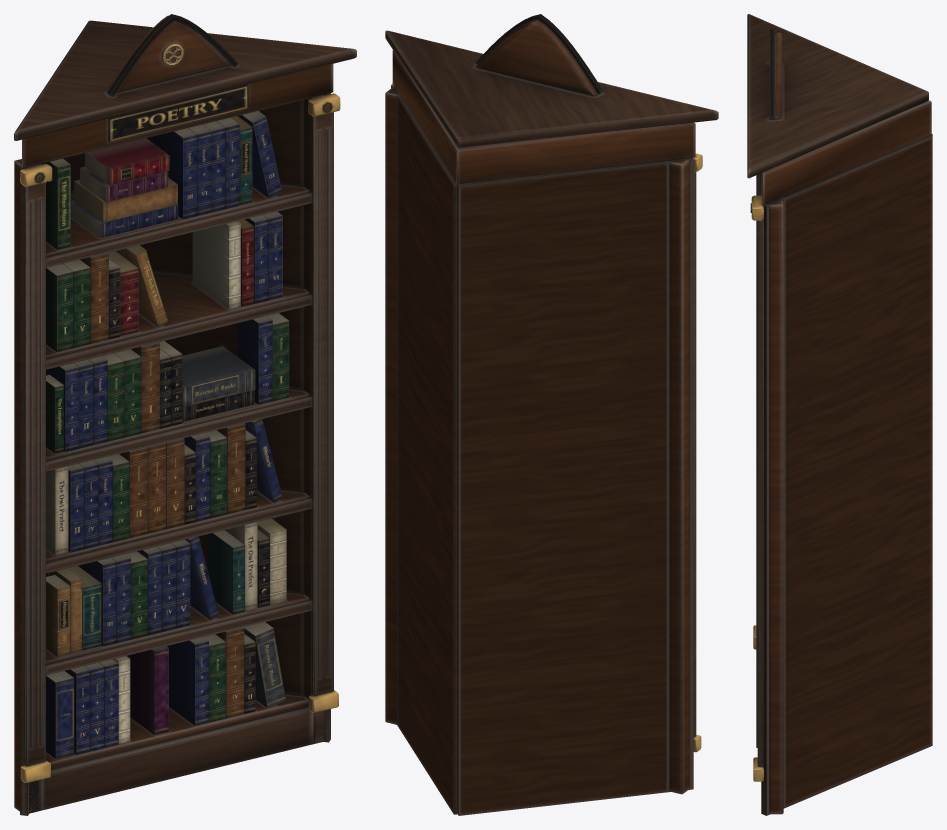
The model's file is LibShelfCorner.fbx.
3 renders of one model, left to right at view 1: azimuth 30°, elevation 25°; view 2: azimuth 150°, elevation 25°; view 3: azimuth 270°, elevation 25°, orthographic. The views are drawn at different scales.
Parts seen in each view (by area): view 1: LibShelfCorner; view 2: LibShelfCorner; view 3: LibShelfCorner.
Part boxes in pixels (x1,y1,x2,y2): LibShelfCorner: (14, 14, 356, 815); LibShelfCorner: (385, 14, 718, 815); LibShelfCorner: (747, 14, 932, 815).
Bounding box in the file's own units: 493 × 1045 × 246.
